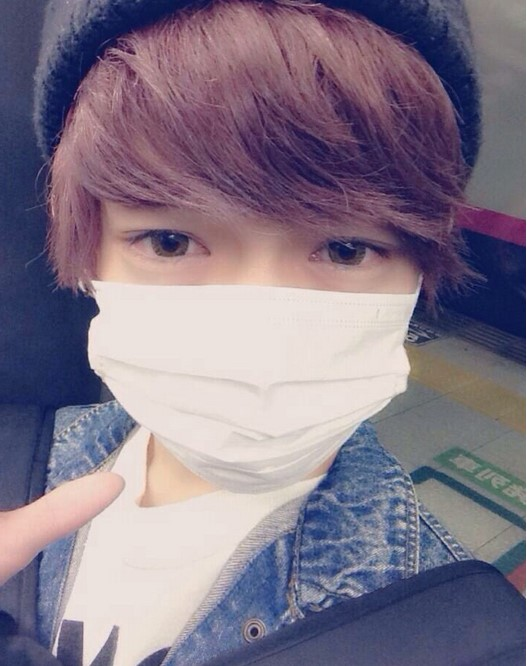face_with_mask: (30, 4, 484, 482)
